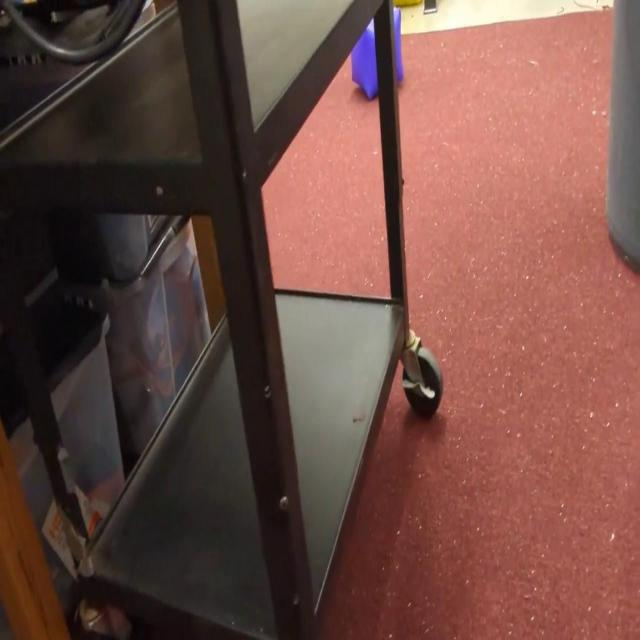frc_cube: (350, 7, 404, 99)
